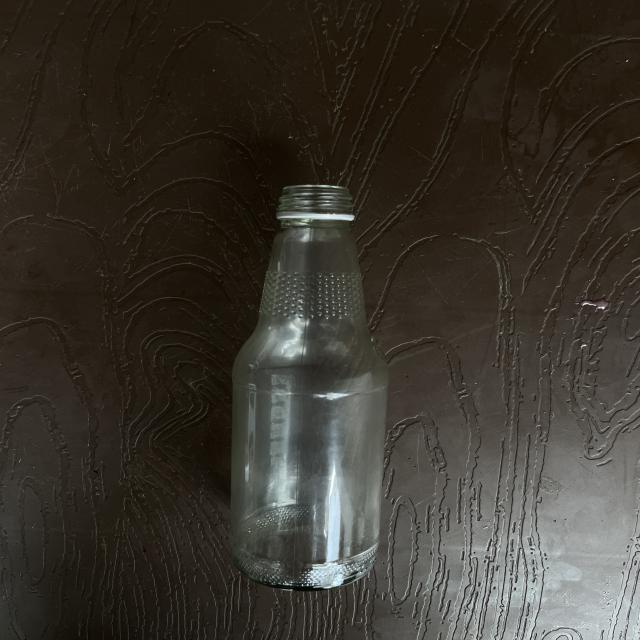Glass_Bottle: (230, 185, 387, 590)
